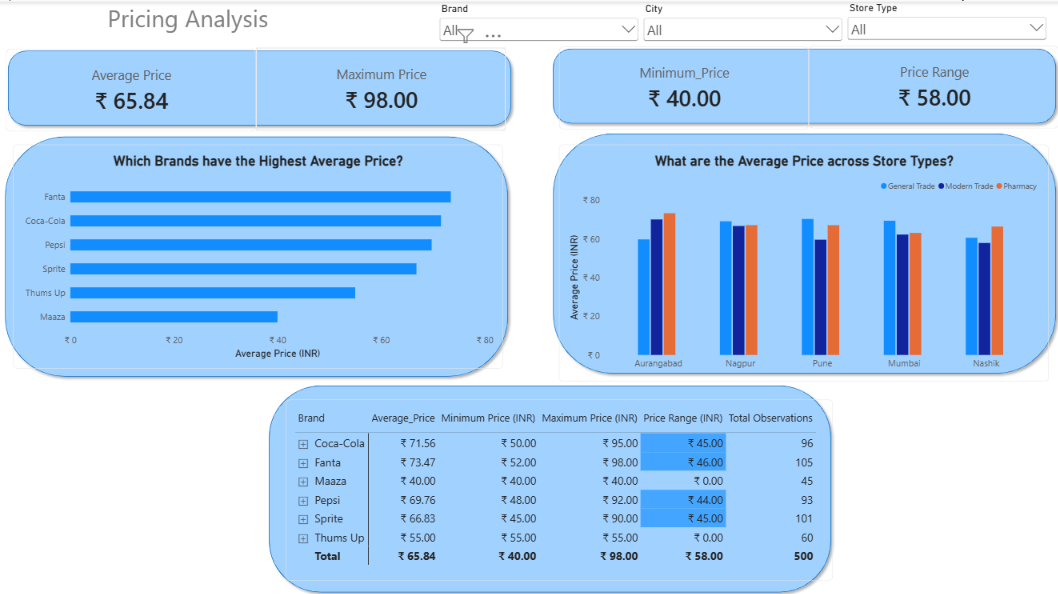

The dashboard page shown, as its layout file describes it:
{"tool":"powerbi","page":{"name":"Pricing","canvas":[1920,1080],"ordinal":4},"visuals":[{"type":"group","id":"g1","title":"Background","box":[0,76,1920.1,1003],"z":0},{"type":"shape","box":[5.4,79.6,928.4,153.8],"z":0,"group":"g1"},{"type":"textbox","box":[10.9,0,658.7,85.1],"z":1000},{"type":"shape","box":[991.7,76,928.4,153.8],"z":1000,"group":"g1"},{"type":"cardVisual","fields":{"Data":["_Measures.Average_Price"]},"box":[10.9,85.1,452,150],"z":2000},{"type":"shape","box":[0,235.3,928.4,452.4],"z":2000,"group":"g1"},{"type":"cardVisual","fields":{"Data":["_Measures.Minimum_Price"]},"box":[1011.6,81.4,452,150],"z":3000},{"type":"shape","box":[991.7,229.8,928.4,452.4],"z":3000,"group":"g1"},{"type":"cardVisual","fields":{"Data":["_Measures.Price_Range"]},"box":[1464,79.6,452,150],"z":4000},{"type":"shape","box":[477.9,686.6,1035.1,392.3],"z":4000,"group":"g1"},{"type":"cardVisual","fields":{"Data":["_Measures.Maximum_Price"]},"box":[463.3,83.2,452,150],"z":5000},{"type":"slicer","fields":{"Values":["Product_Dim.Brand"]},"box":[790.8,1.8,369.2,99.5],"z":6000},{"type":"slicer","fields":{"Values":["City_Dim.City"]},"box":[1160,1.8,369.2,99.5],"z":7000},{"type":"slicer","fields":{"Values":["Store_Type_Dim.Store Type"]},"box":[1529.2,0,369.2,99.5],"z":8000},{"type":"pivotTable","title":"Which are the Top Performing City?","fields":{"Rows":["Product_Dim.Brand","Product_Dim.SKU","City_Dim.City","Store_Type_Dim.Store Type"],"Values":["_Measures.Average_Price","_Measures.Minimum_Price","_Measures.Maximum_Price","_Measures.Price_Range","_Measures.Total Observations"]},"box":[517.6,720,989.2,327.7],"z":9000},{"type":"clusteredColumnChart","title":"What are the Average Price across Store Types?","fields":{"Category":["City_Dim.City"],"Series":["Store_Type_Dim.Store Type"],"Y":["_Measures.Average_Price"]},"box":[1011.6,258.8,886.7,428.9],"z":10000},{"type":"clusteredBarChart","title":"Which Brands have the Highest Average Price?","fields":{"Category":["Product_Dim.Brand"],"Y":["_Measures.Average_Price"]},"box":[23.5,258.8,886.7,405.4],"z":11000}]}

Visuals, with their boxes in screenshot pixels (x1, y1, x2, y2), scaled from the page's 1920x1080 canvas onto the 1058x594 screenshot:
"Background" group: <region>0, 42, 1057, 593</region>
shape: <region>3, 44, 515, 128</region>
textbox: <region>6, 0, 369, 47</region>
shape: <region>546, 42, 1057, 126</region>
cardVisual - _Measures.Average_Price: <region>6, 47, 255, 129</region>
shape: <region>0, 129, 512, 378</region>
cardVisual - _Measures.Minimum_Price: <region>557, 45, 807, 127</region>
shape: <region>546, 126, 1057, 375</region>
cardVisual - _Measures.Price_Range: <region>807, 44, 1056, 126</region>
shape: <region>263, 378, 834, 593</region>
cardVisual - _Measures.Maximum_Price: <region>255, 46, 504, 128</region>
slicer - Product_Dim.Brand: <region>436, 1, 639, 56</region>
slicer - City_Dim.City: <region>639, 1, 843, 56</region>
slicer - Store_Type_Dim.Store Type: <region>843, 0, 1046, 55</region>
"Which are the Top Performing City?" pivotTable: <region>285, 396, 830, 576</region>
"What are the Average Price across Store Types?" clusteredColumnChart: <region>557, 142, 1046, 378</region>
"Which Brands have the Highest Average Price?" clusteredBarChart: <region>13, 142, 502, 365</region>
